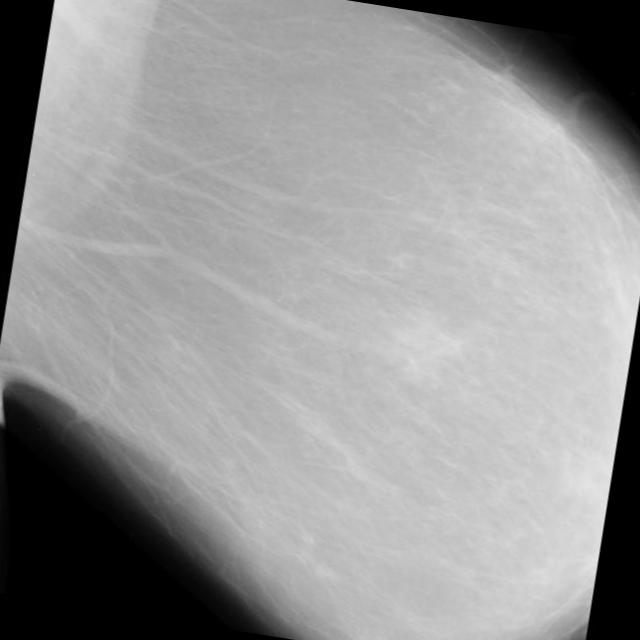ARCH: (383, 318, 452, 387)
